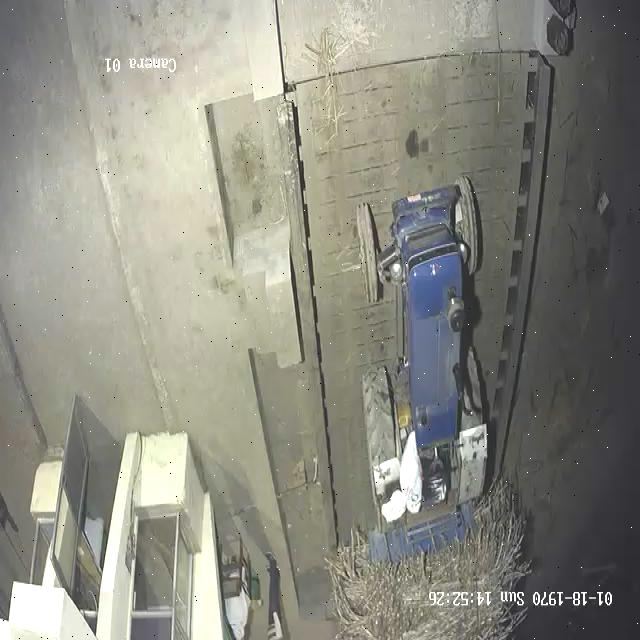Tratores - v5 YOLO V8L 2024-11-13: (349, 177, 490, 522)
